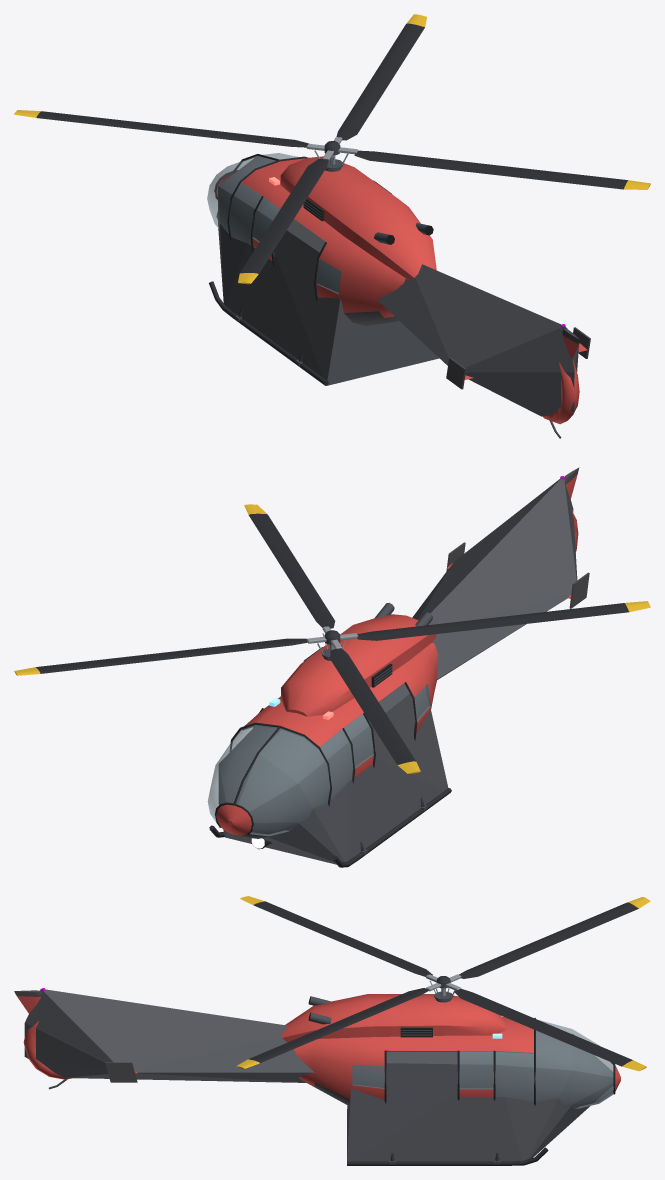
File: heli_police.glb
The picture shows the model from 3 angles, top to bottom: view 1: azimuth 30°, elevation 25°; view 2: azimuth 150°, elevation 25°; view 3: azimuth 270°, elevation 25°; orthographic projection. The views are drawn at different scales.
Parts seen in each view (by area): view 1: heli_police__body, heli_police__col_body, heli_police__col_tail, heli_police__rotor_main; view 2: heli_police__body, heli_police__col_body, heli_police__col_tail, heli_police__rotor_main; view 3: heli_police__body, heli_police__col_body, heli_police__col_tail, heli_police__rotor_main.
Boxes of the visible parts, <box> form: heli_police__body: <box>207,153,590,438</box>; heli_police__col_body: <box>218,156,439,385</box>; heli_police__col_tail: <box>377,264,578,416</box>; heli_police__rotor_main: <box>14,14,650,284</box>; heli_police__body: <box>207,467,589,867</box>; heli_police__col_body: <box>218,683,448,867</box>; heli_police__col_tail: <box>412,478,577,686</box>; heli_police__rotor_main: <box>14,504,650,773</box>; heli_police__body: <box>14,988,620,1165</box>; heli_police__col_body: <box>347,1030,613,1165</box>; heli_police__col_tail: <box>24,989,314,1082</box>; heli_police__rotor_main: <box>236,896,650,1071</box>.
Size of what is drawn, in the model's own units: 7.72 by 3.35 by 11.86.
8 materials, 2 textured.
